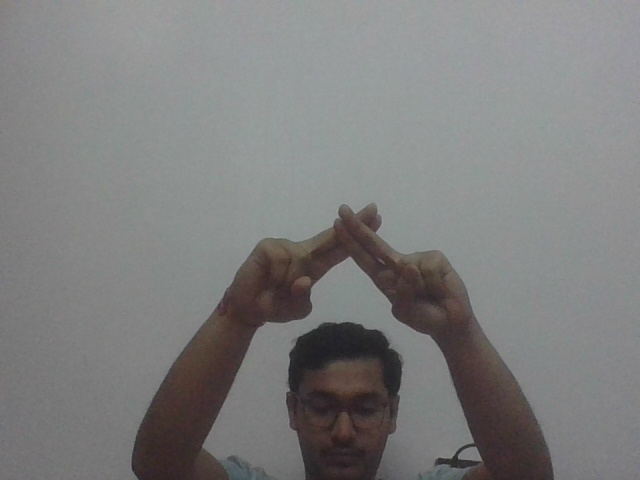F: (221, 195, 489, 337)
